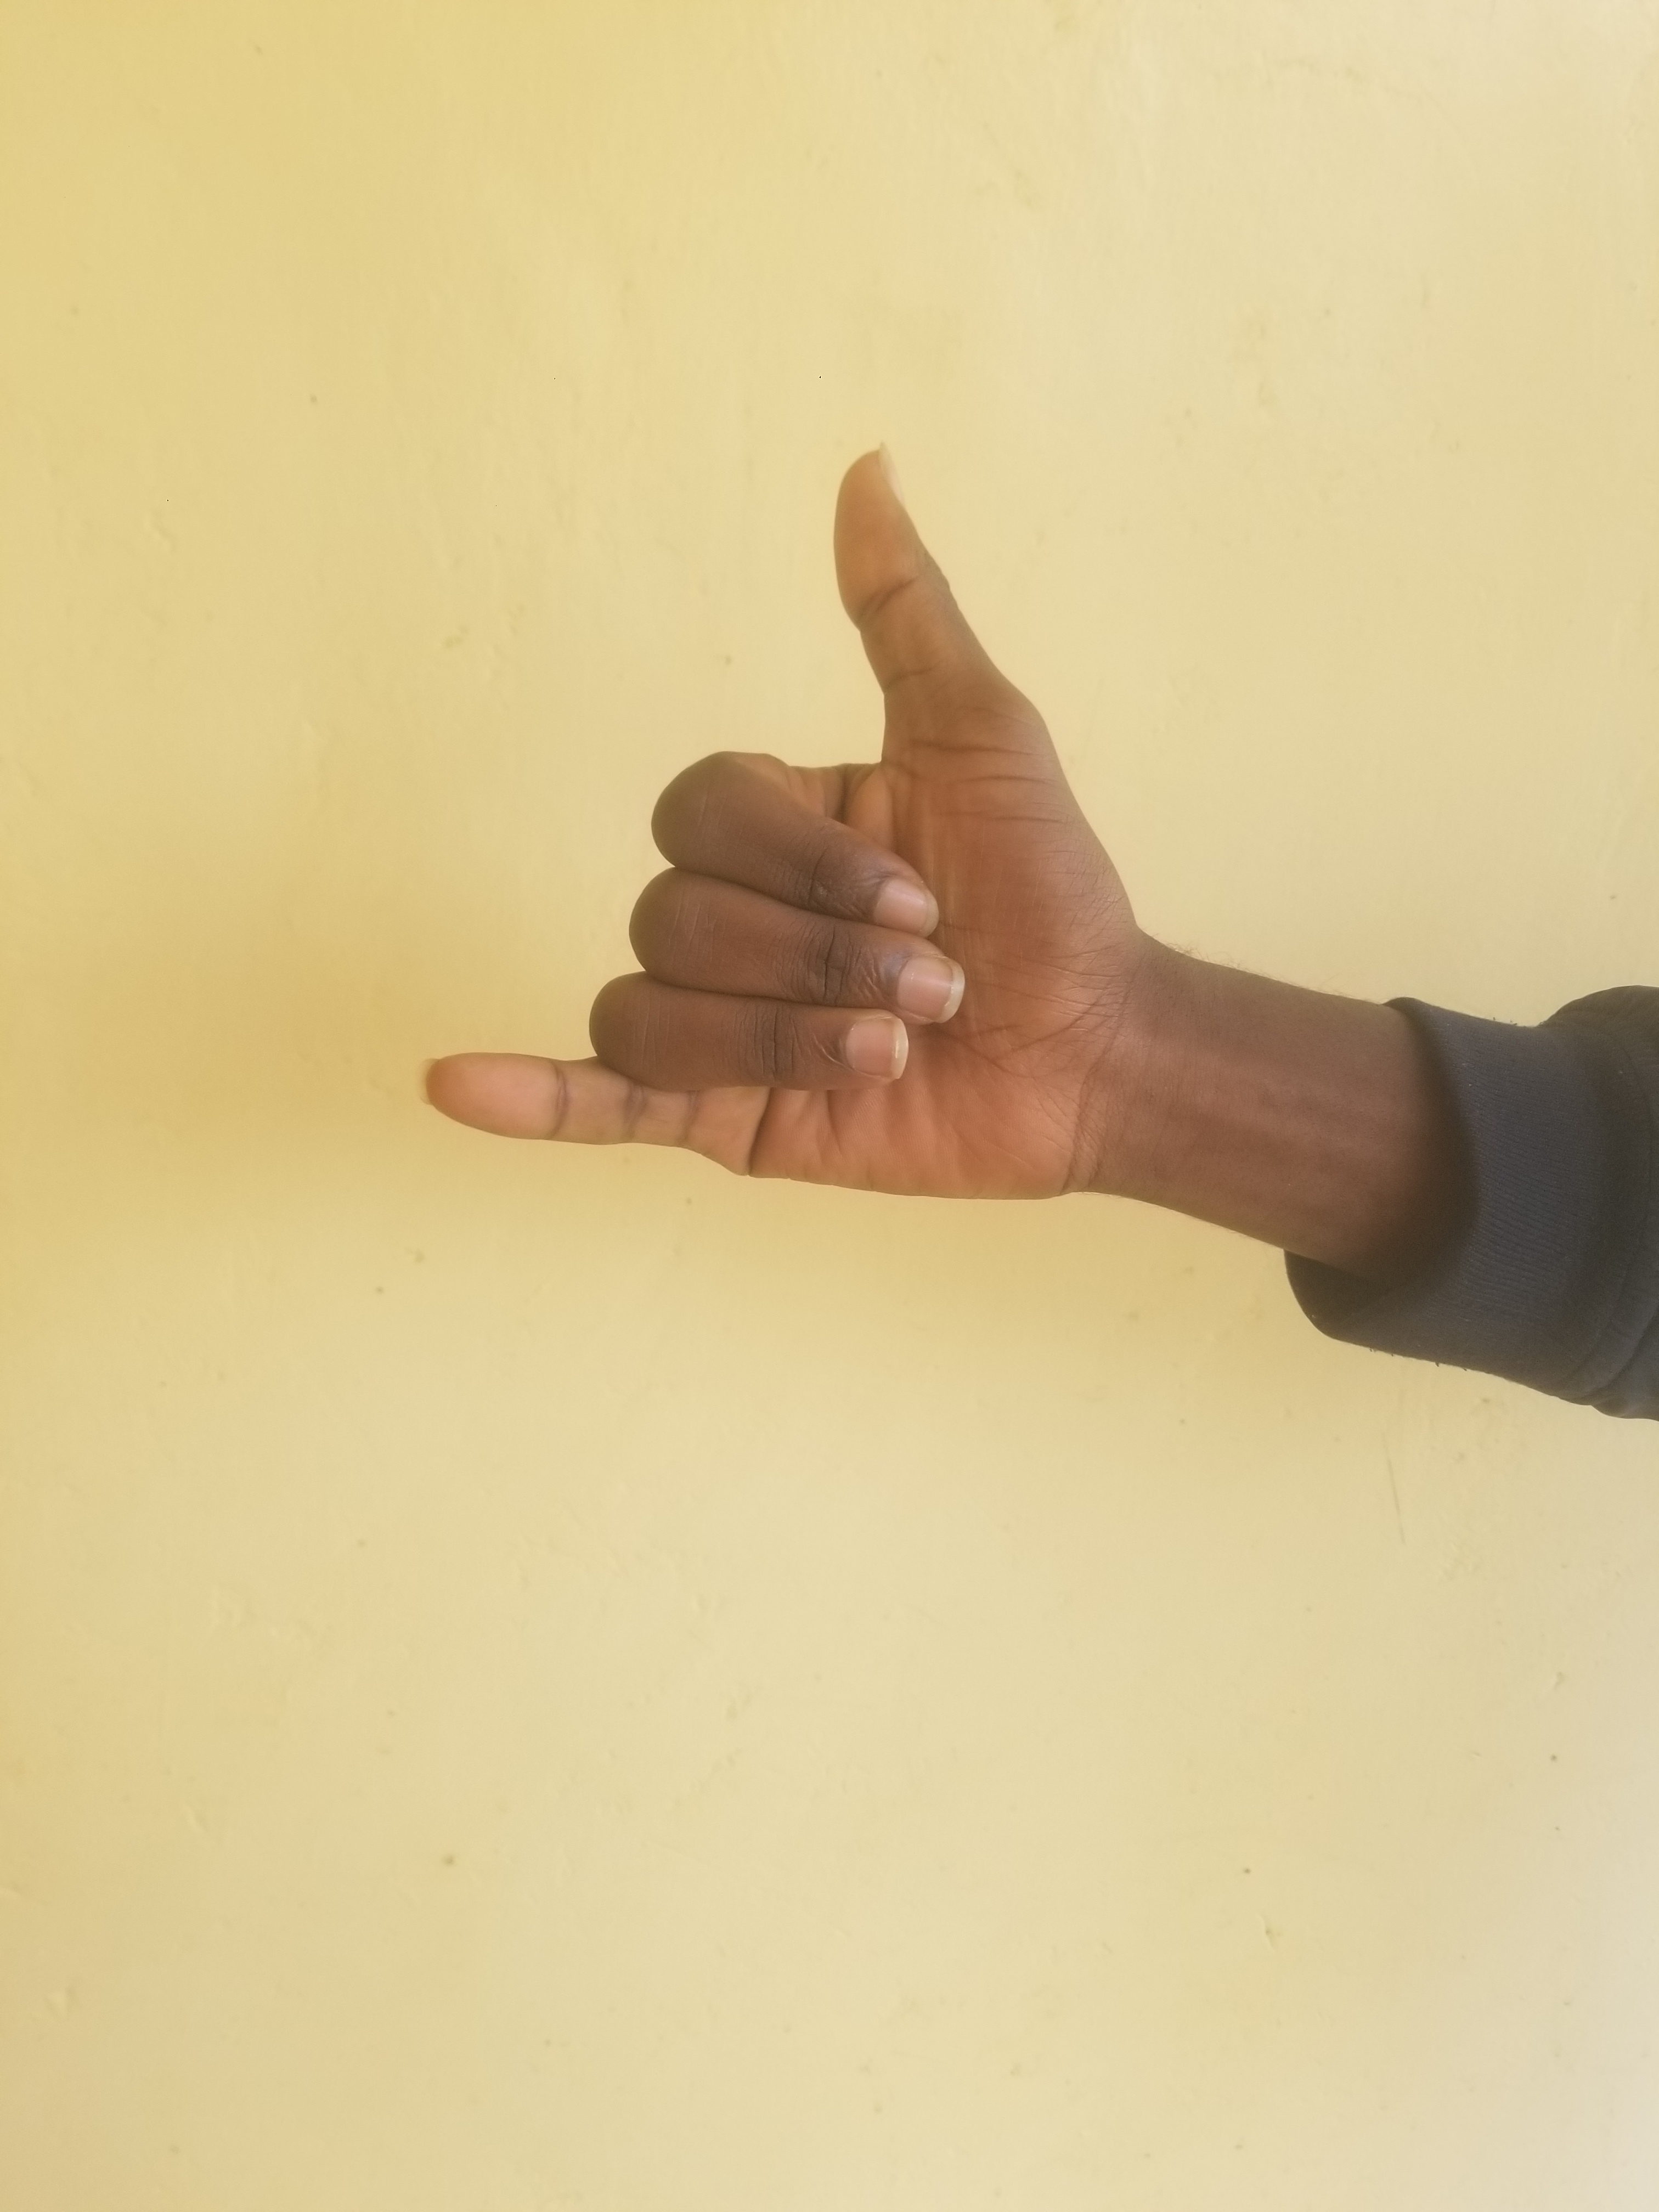call: (366, 307, 1476, 1426)
